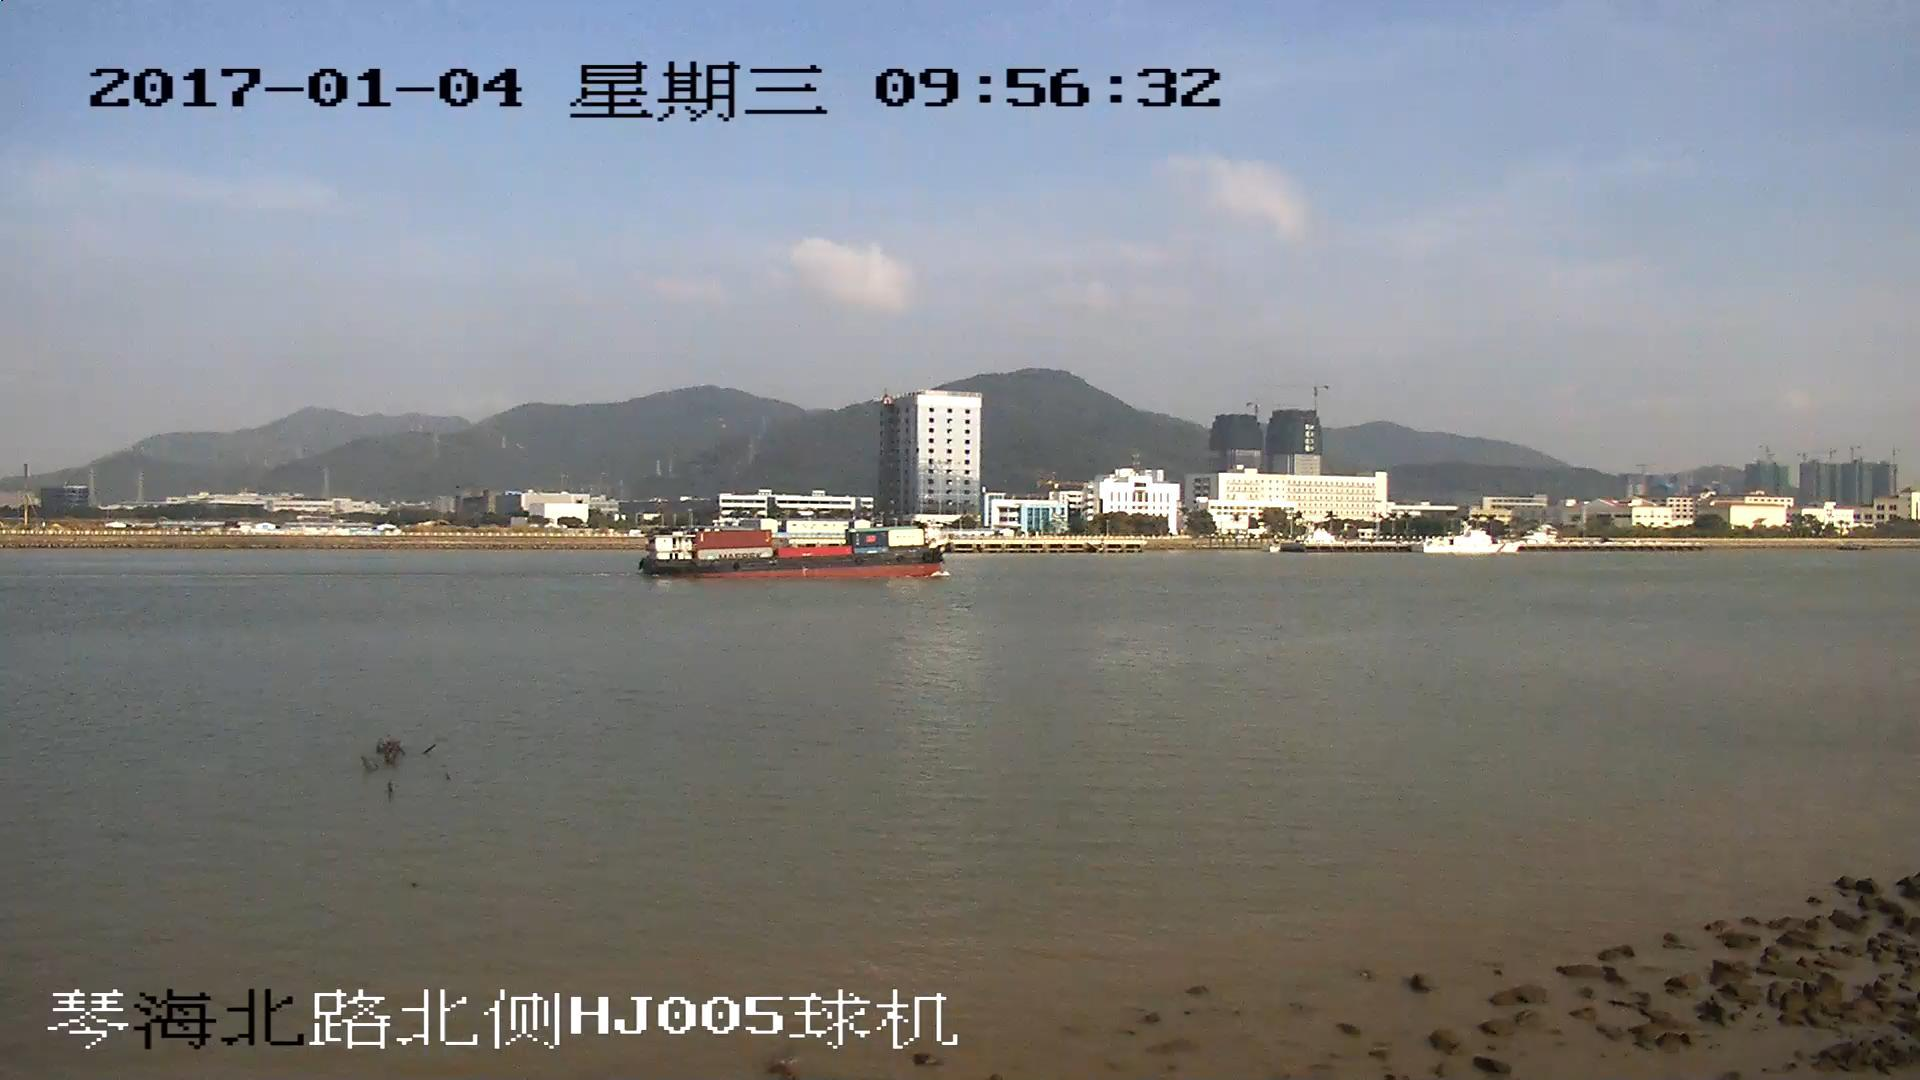Ship: (645, 527, 945, 578)
